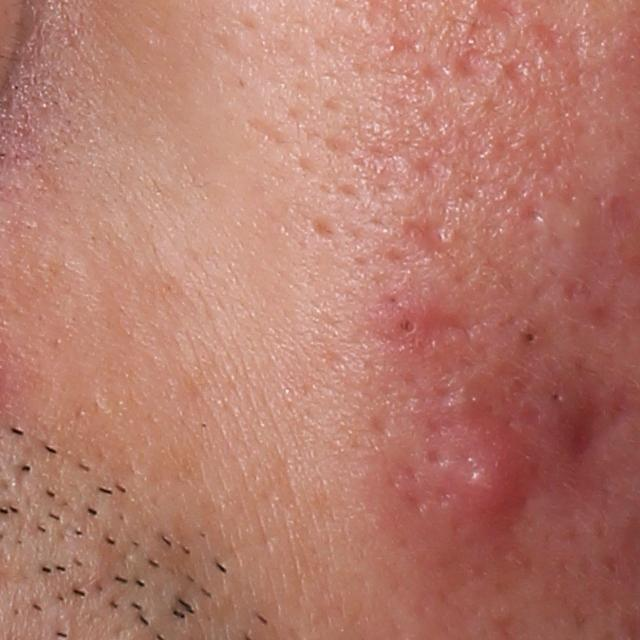atrophic_scar: (397, 214, 467, 260), (237, 114, 291, 149), (452, 46, 483, 81)
comedo: (519, 329, 543, 349), (544, 388, 563, 405)
papule: (441, 422, 543, 540), (550, 401, 597, 462)
